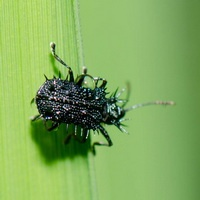insect: (33, 42, 174, 151)
